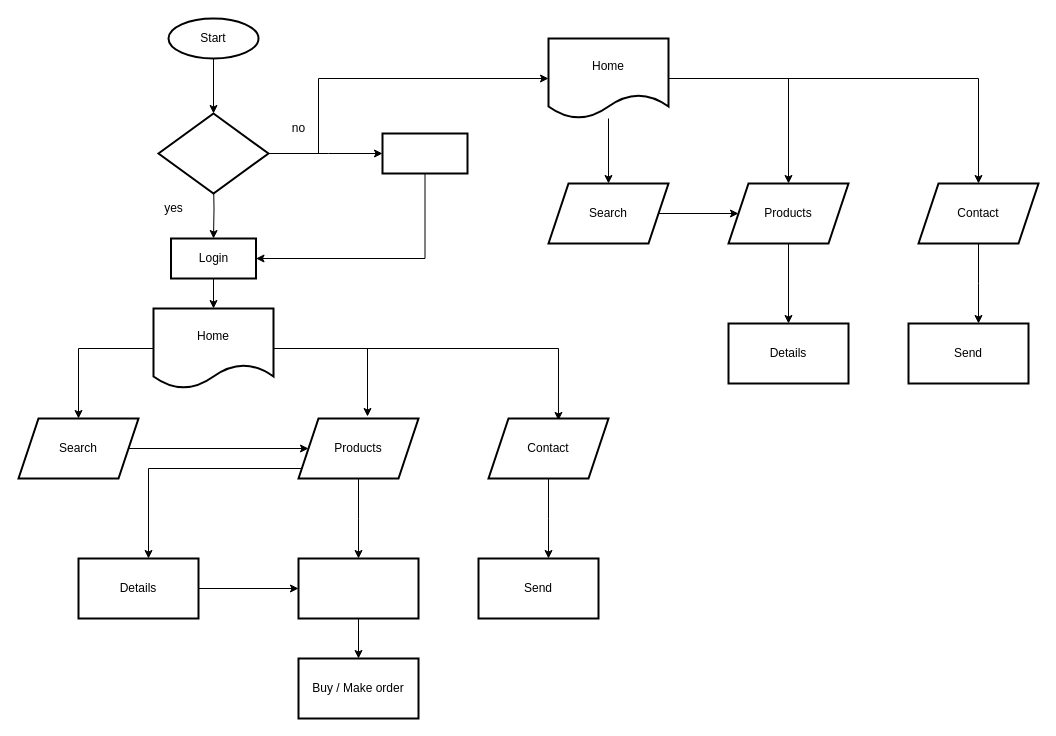
Image size: 1056x736. Some labels were removed from this diagram. Each missing label, with the box of its shape:
Add to cart: (297, 557, 419, 619)
Has Account: (157, 112, 269, 194)
Signup: (381, 132, 468, 174)
